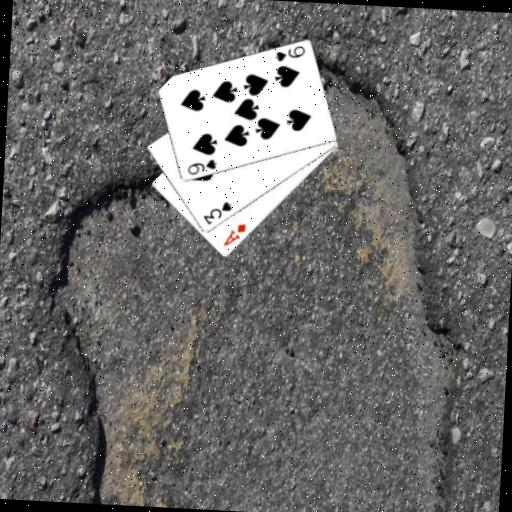3S: (200, 198, 233, 228)
9S: (184, 155, 219, 178), (272, 42, 307, 65)
AD: (220, 220, 248, 249)
